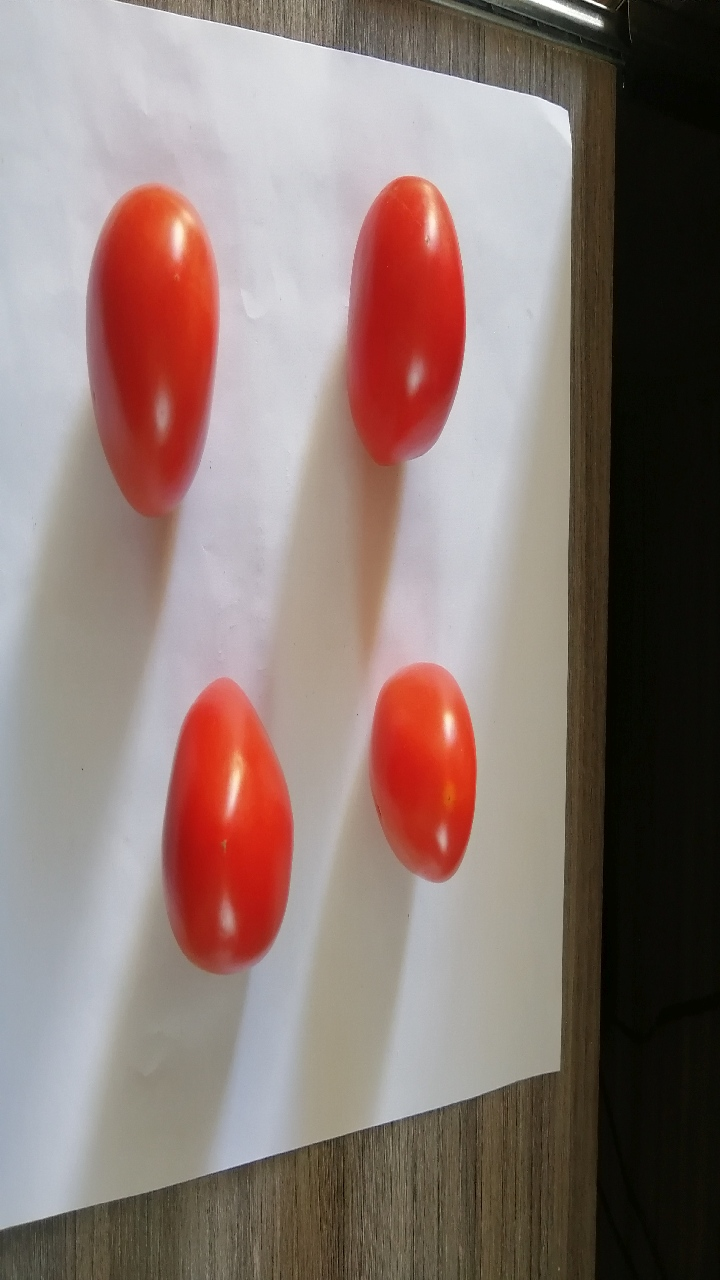tomateRojo: (66, 163, 238, 528), (141, 655, 308, 994), (317, 152, 481, 482), (357, 640, 508, 914)
